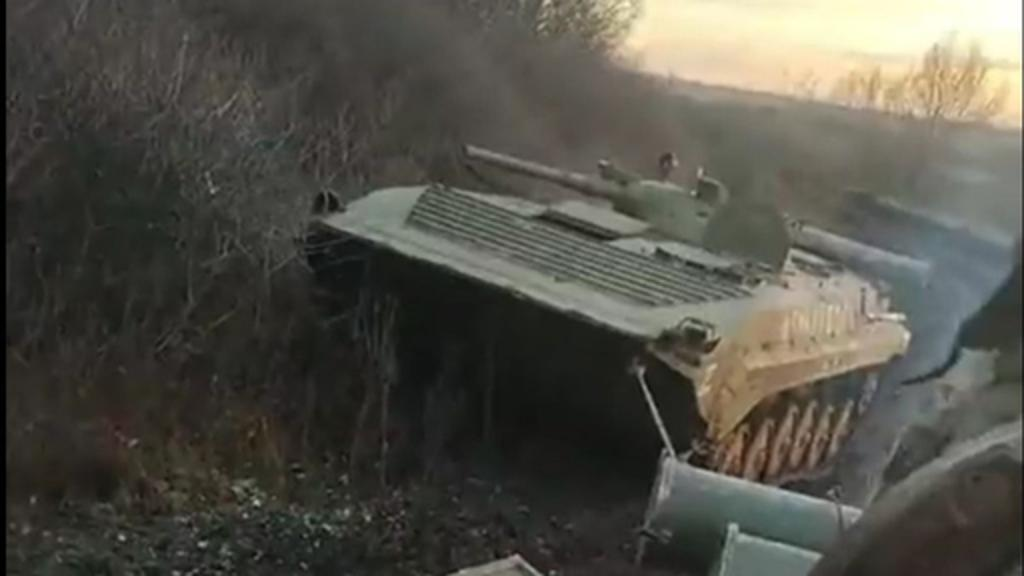APC-IFV: (294, 102, 888, 492)
